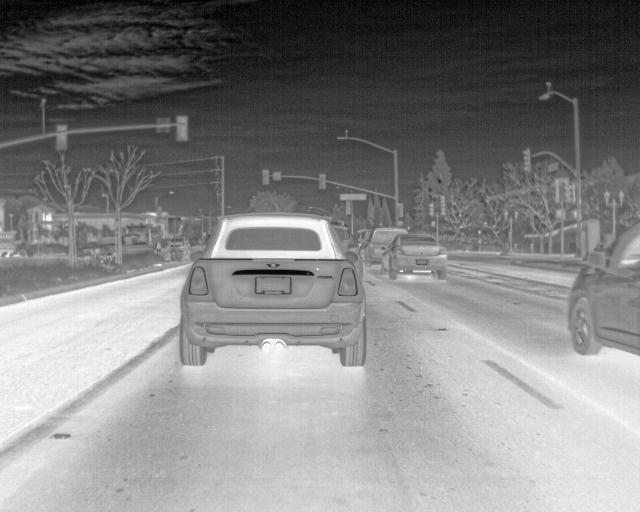car: (178, 212, 366, 367), (569, 219, 639, 357), (384, 234, 447, 280), (360, 225, 408, 261)
